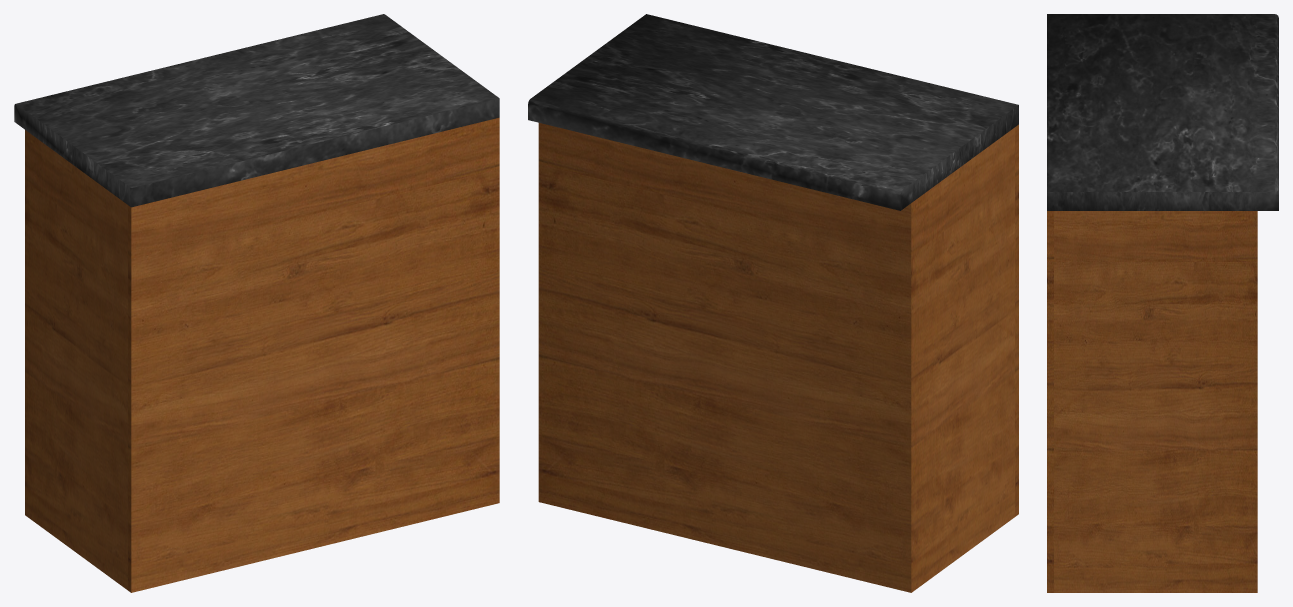
File: counterBaseHalf.fbx
The picture shows the model from 3 angles, left to right: view 1: azimuth 30°, elevation 25°; view 2: azimuth 150°, elevation 25°; view 3: azimuth 270°, elevation 25°; orthographic projection. The views are drawn at different scales.
Visible parts, largest first — view 1: Cube; view 2: Cube; view 3: Cube.
Part boxes in pixels (x1,y1,x2,y2): Cube: (14,14,499,592); Cube: (528,14,1018,592); Cube: (1047,14,1278,592).
Size of the model in its own units: 200 by 210 by 110.
